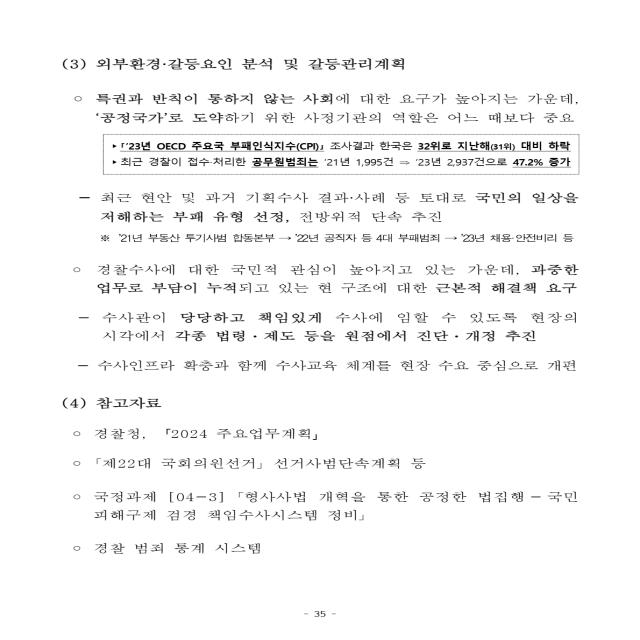subtitle: (64, 53, 412, 77), (62, 394, 165, 416)
text: (65, 91, 594, 379), (67, 427, 592, 559)
